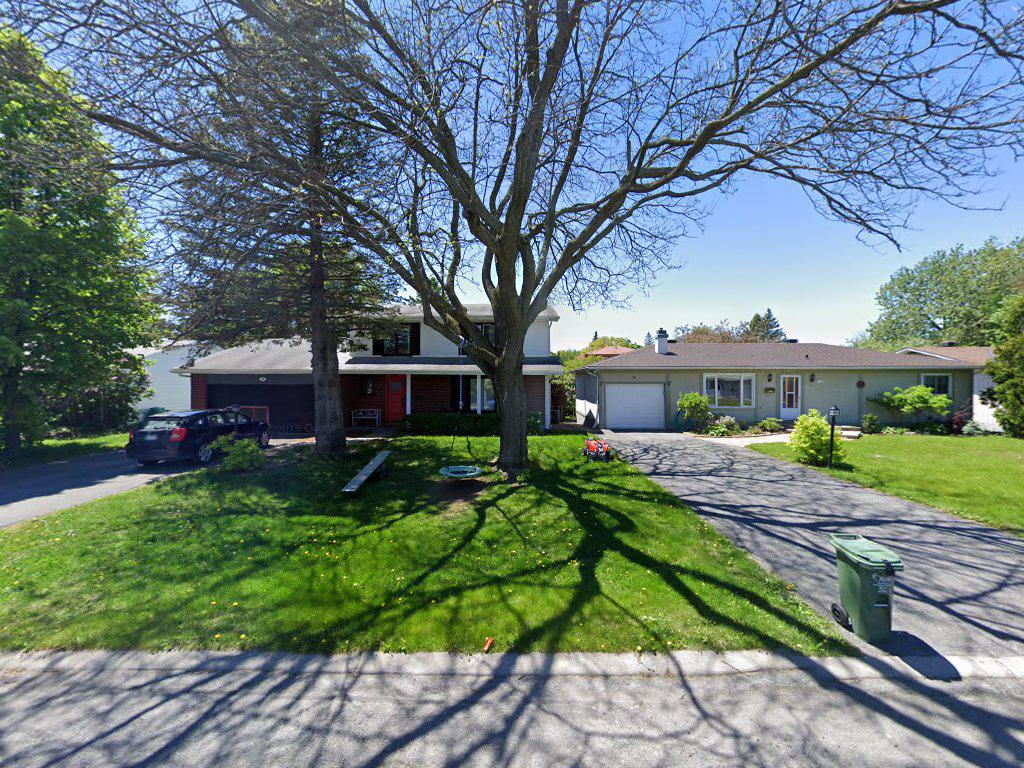trunk: (482, 218, 538, 492), (305, 316, 351, 463)
